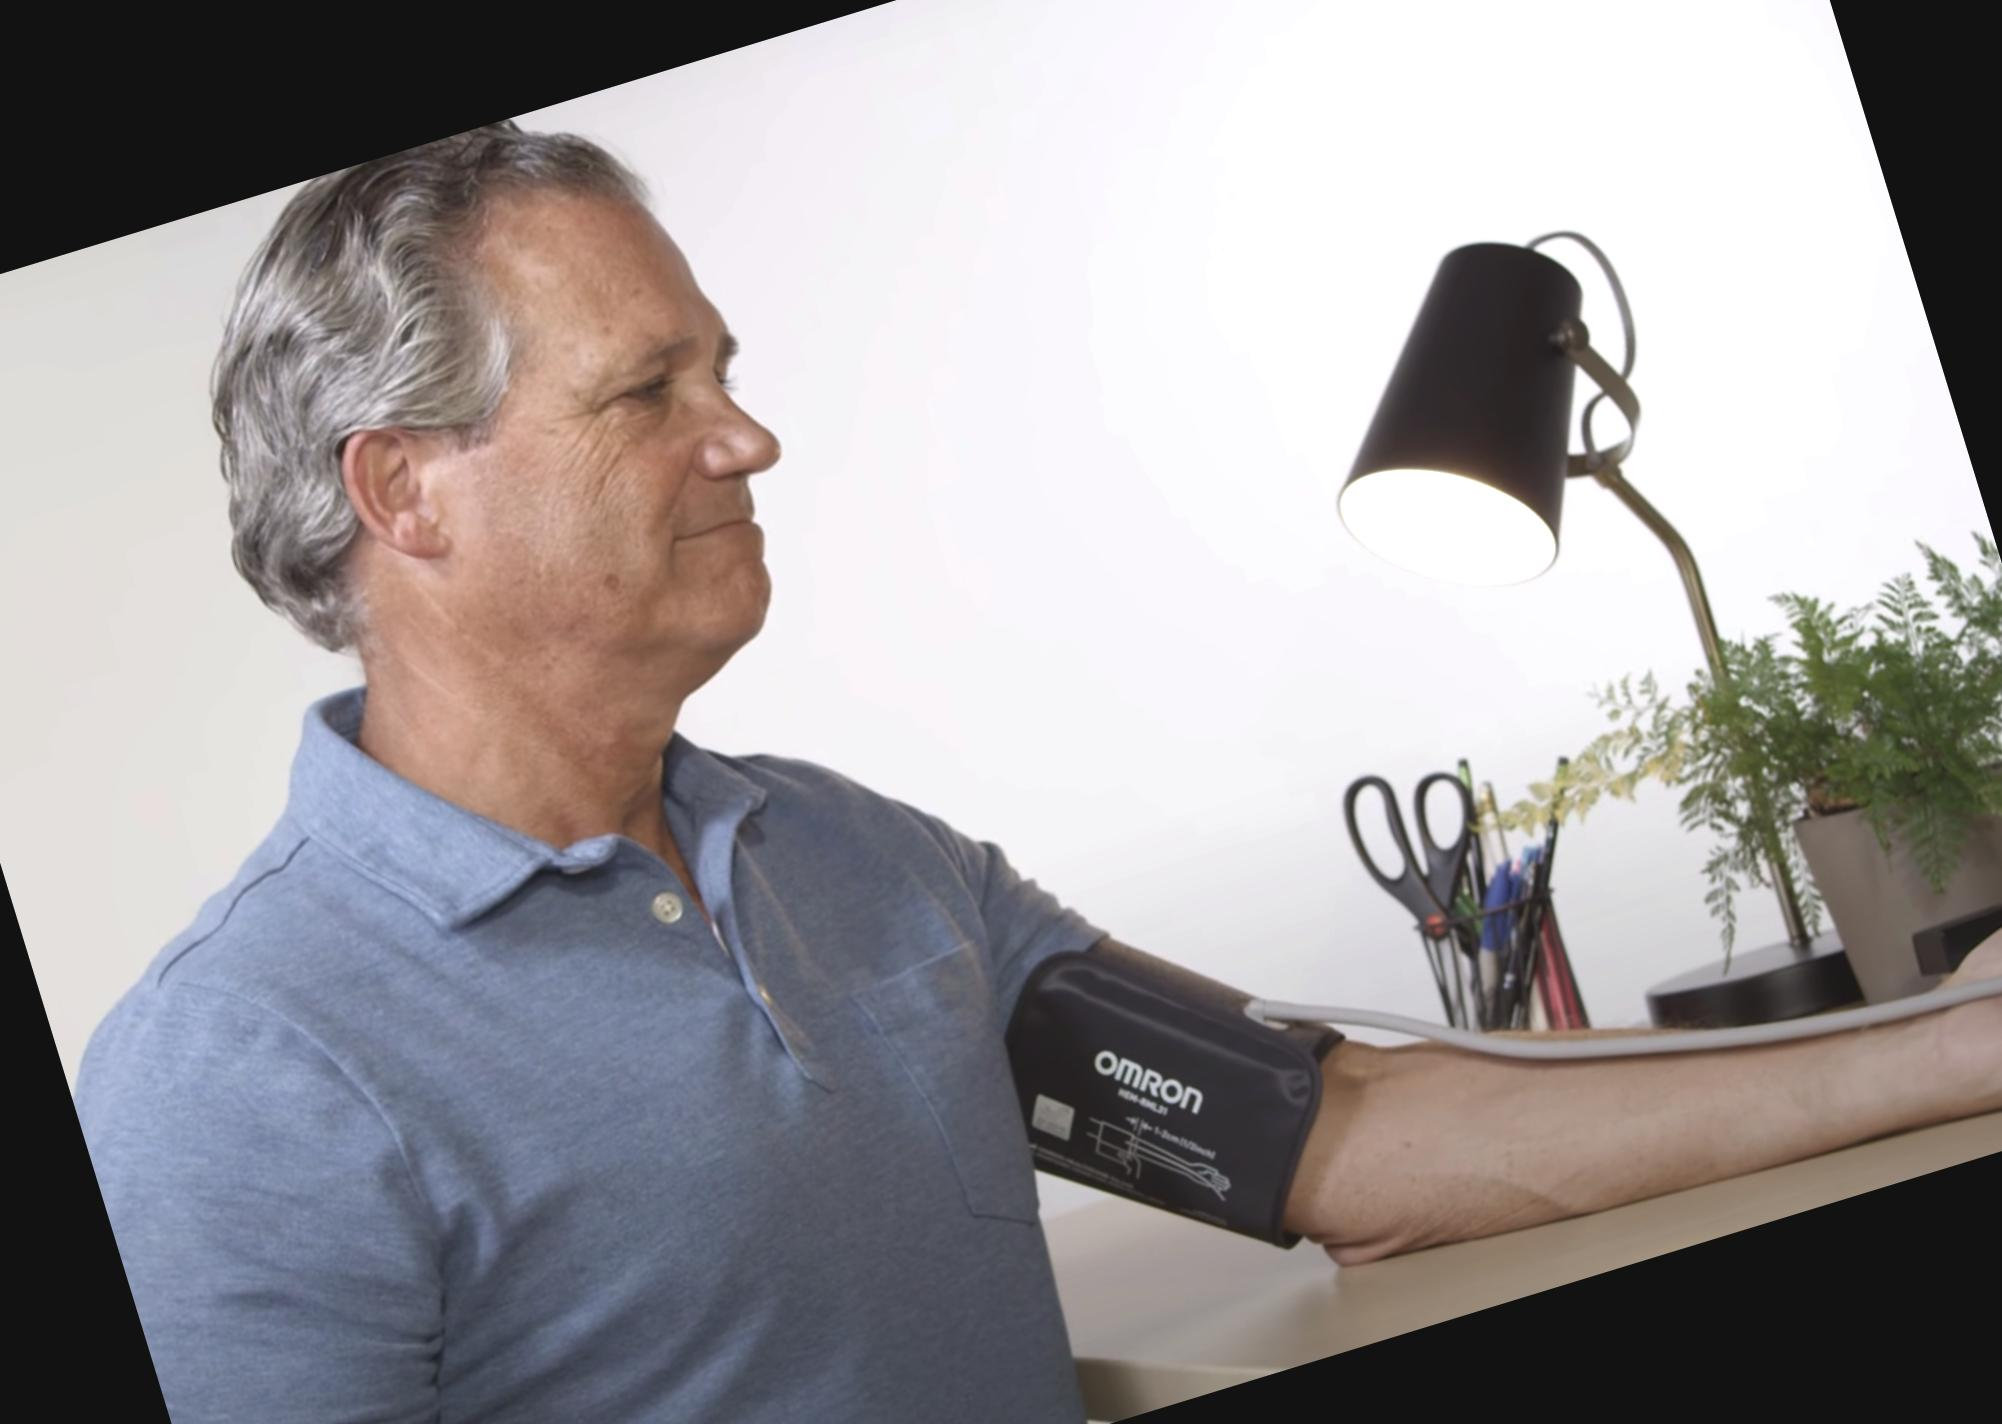cuff: (974, 886, 1376, 1310)
